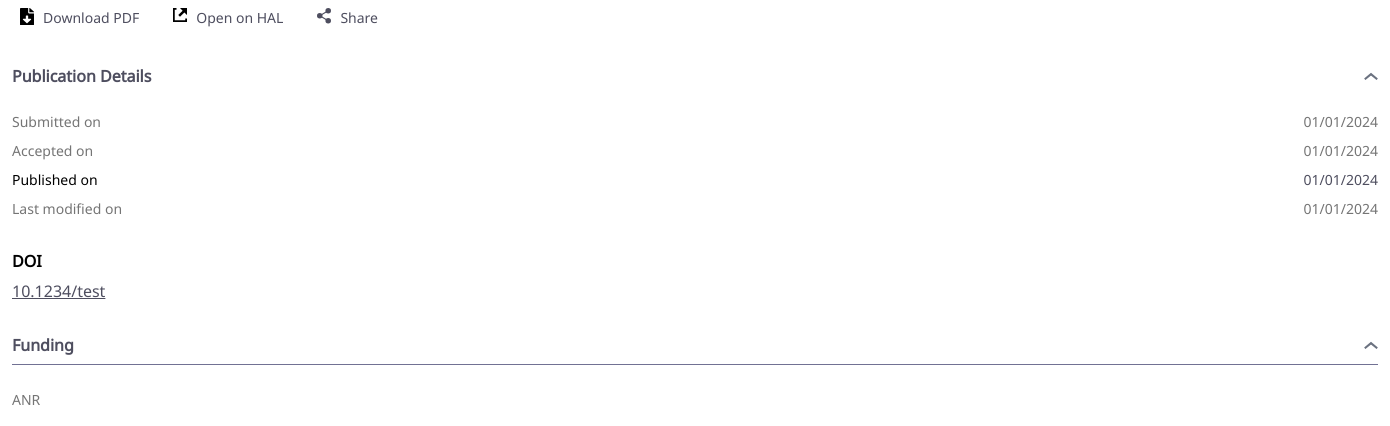
Test: ArticleDetailsSidebar › Funding › toggles funding section visibility on click
Check: the element with class "articleDetailsSidebar-funding-content-opened" is shown, box [12, 390, 40, 409]
Click the button "Funding" at (43, 345), box [12, 334, 1378, 365]
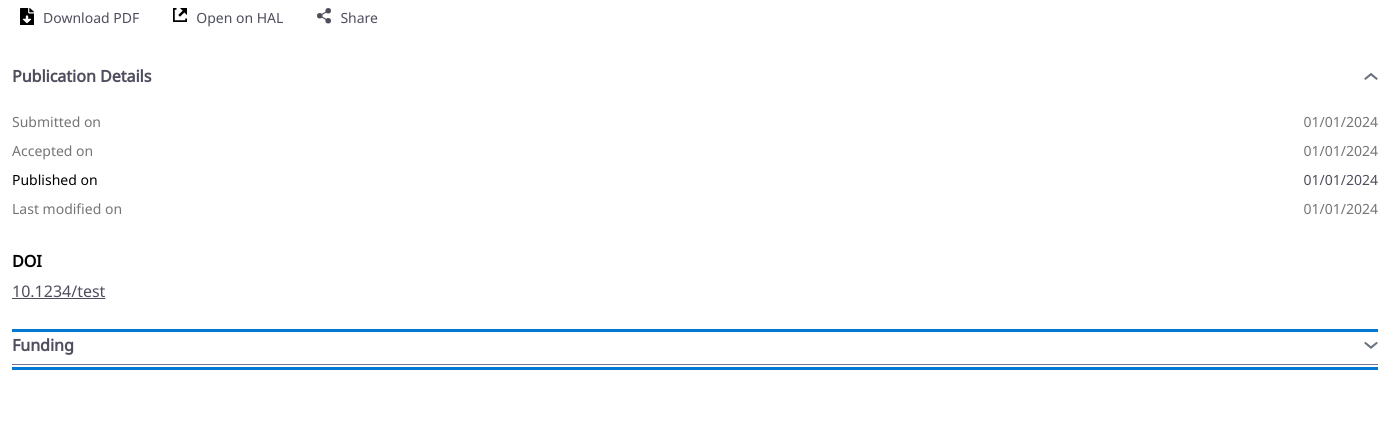
Check: the element with class "articleDetailsSidebar-funding-content-opened" is gone
